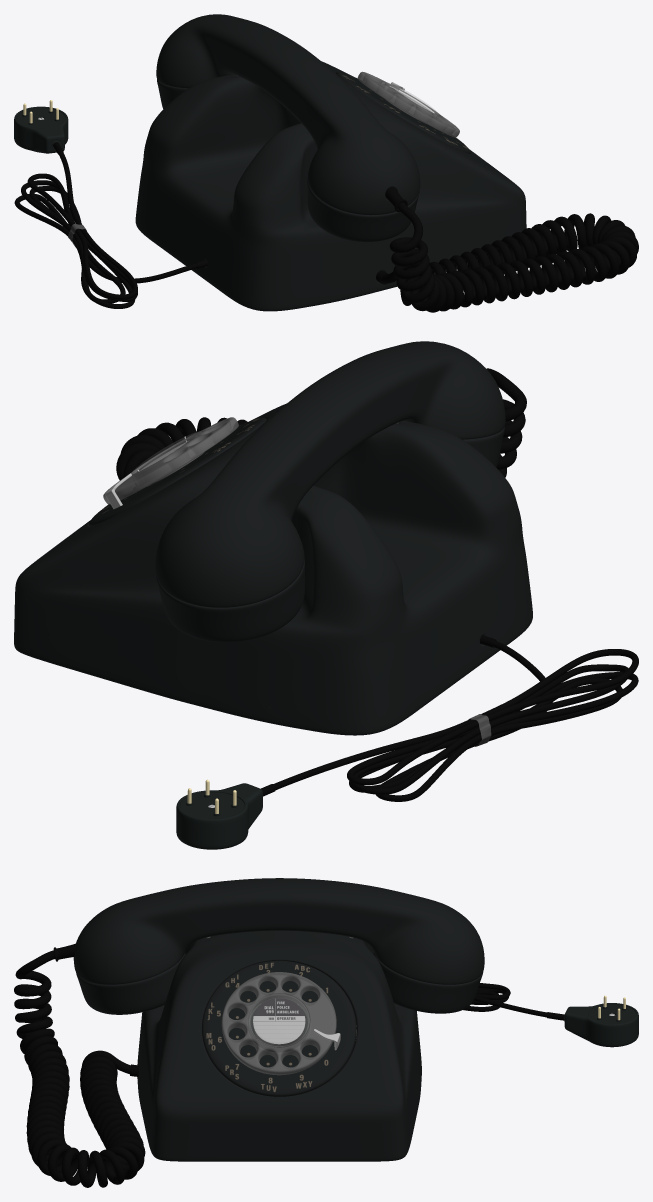
File: vintage_telephone.optimized.glb
3 views of the same model, one above another, from view 1: azimuth 30°, elevation 25°; view 2: azimuth 150°, elevation 25°; view 3: azimuth 270°, elevation 25° (orthographic). The views are drawn at different scales.
Visible parts, largest first — view 1: polySurface184_lambert28_0 (×2), pasted__polySurface110_lambert28_0, polySurface193_lambert29_0, polySurface192_lambert29_0, pasted__polySurface111_lambert28_0, polySurface186_lambert30_0, polySurface190_lambert24_0, polySurface194_lambert28_0, polySurface189_lambert24_0; view 2: polySurface184_lambert28_0 (×2), pasted__polySurface110_lambert28_0, polySurface192_lambert29_0, pasted__polySurface109_lambert28_0, polySurface193_lambert29_0, polySurface190_lambert24_0, polySurface186_lambert30_0, polySurface194_lambert28_0, polySurface189_lambert24_0, pasted__polySurface111_lambert28_0; view 3: polySurface184_lambert28_0 (×2), pasted__polySurface110_lambert28_0, polySurface193_lambert29_0, polySurface194_lambert28_0, polySurface186_lambert30_0, pasted__polySurface111_lambert28_0, pasted__polySurface109_lambert28_0, polySurface187_lambert33_0, polySurface190_lambert24_0, polySurface185_lambert34_0, polySurface192_lambert29_0, polySurface199_lambert32_0 (+1 smaller).
Boxes of the visible parts, bbox=[...] form: polySurface184_lambert28_0 (×2): bbox=[135, 61, 526, 311]; pasted__polySurface110_lambert28_0: bbox=[156, 14, 420, 215]; polySurface193_lambert29_0: bbox=[381, 202, 638, 312]; polySurface192_lambert29_0: bbox=[14, 150, 197, 308]; pasted__polySurface111_lambert28_0: bbox=[307, 177, 419, 242]; polySurface186_lambert30_0: bbox=[357, 71, 459, 137]; polySurface190_lambert24_0: bbox=[14, 106, 68, 153]; polySurface194_lambert28_0: bbox=[336, 72, 470, 153]; polySurface189_lambert24_0: bbox=[16, 108, 65, 127]; polySurface184_lambert28_0 (×2): bbox=[14, 403, 532, 735]; pasted__polySurface110_lambert28_0: bbox=[155, 341, 505, 607]; polySurface192_lambert29_0: bbox=[273, 640, 638, 801]; pasted__polySurface109_lambert28_0: bbox=[156, 559, 304, 642]; polySurface193_lambert29_0: bbox=[116, 368, 526, 480]; polySurface190_lambert24_0: bbox=[176, 783, 262, 849]; polySurface186_lambert30_0: bbox=[103, 417, 238, 504]; polySurface194_lambert28_0: bbox=[89, 417, 266, 526]; polySurface189_lambert24_0: bbox=[180, 792, 244, 818]; pasted__polySurface111_lambert28_0: bbox=[463, 427, 504, 466]; polySurface184_lambert28_0 (×2): bbox=[137, 930, 421, 1161]; pasted__polySurface110_lambert28_0: bbox=[73, 878, 484, 984]; polySurface193_lambert29_0: bbox=[14, 950, 145, 1187]; polySurface194_lambert28_0: bbox=[202, 960, 356, 1096]; polySurface186_lambert30_0: bbox=[221, 972, 336, 1075]; pasted__polySurface111_lambert28_0: bbox=[76, 952, 185, 1014]; pasted__polySurface109_lambert28_0: bbox=[373, 952, 483, 1013]; polySurface187_lambert33_0: bbox=[248, 993, 309, 1047]; polySurface190_lambert24_0: bbox=[564, 1003, 638, 1047]; polySurface185_lambert34_0: bbox=[253, 998, 305, 1044]; polySurface192_lambert29_0: bbox=[463, 983, 547, 1017]; polySurface199_lambert32_0: bbox=[206, 962, 328, 1091].
Bounding box in the file's own units: 19.22 × 7.77 × 22.9.
12 materials, 2 textured.
